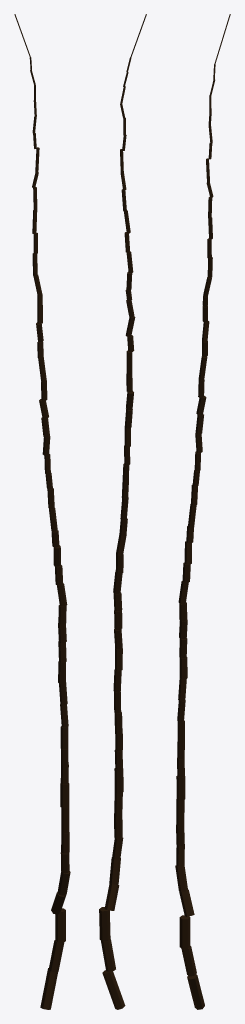
File: tree_552_no_leaf.obj
3 views of the same model, side by side, from view 1: azimuth 90°, elevation 25°; view 2: azimuth 210°, elevation 25°; view 3: azimuth 270°, elevation 25° (orthographic).
Parts seen in each view (by area): view 1: TrunkAndBranches; view 2: TrunkAndBranches; view 3: TrunkAndBranches.
Boxes of the visible parts, <box> form: TrunkAndBranches: <box>14,14,70,1009</box>; TrunkAndBranches: <box>99,14,146,1009</box>; TrunkAndBranches: <box>175,14,230,1009</box>.
Bounding box in the file's own units: 0.2157 × 8.33 × 0.4241.
